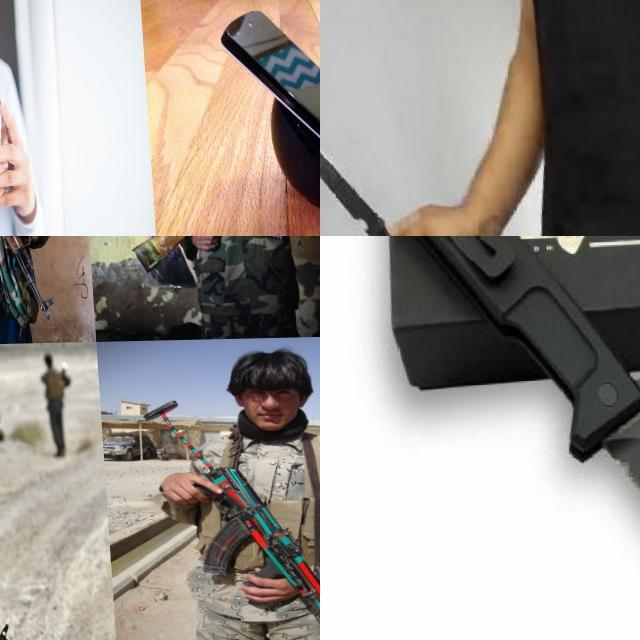-: (552, 369, 640, 640), (320, 131, 380, 236)
gun-knife-thesis - v11 Yolov5 augmented: (134, 398, 320, 640), (122, 236, 320, 303), (0, 515, 101, 640), (0, 236, 65, 355), (0, 236, 77, 326)
